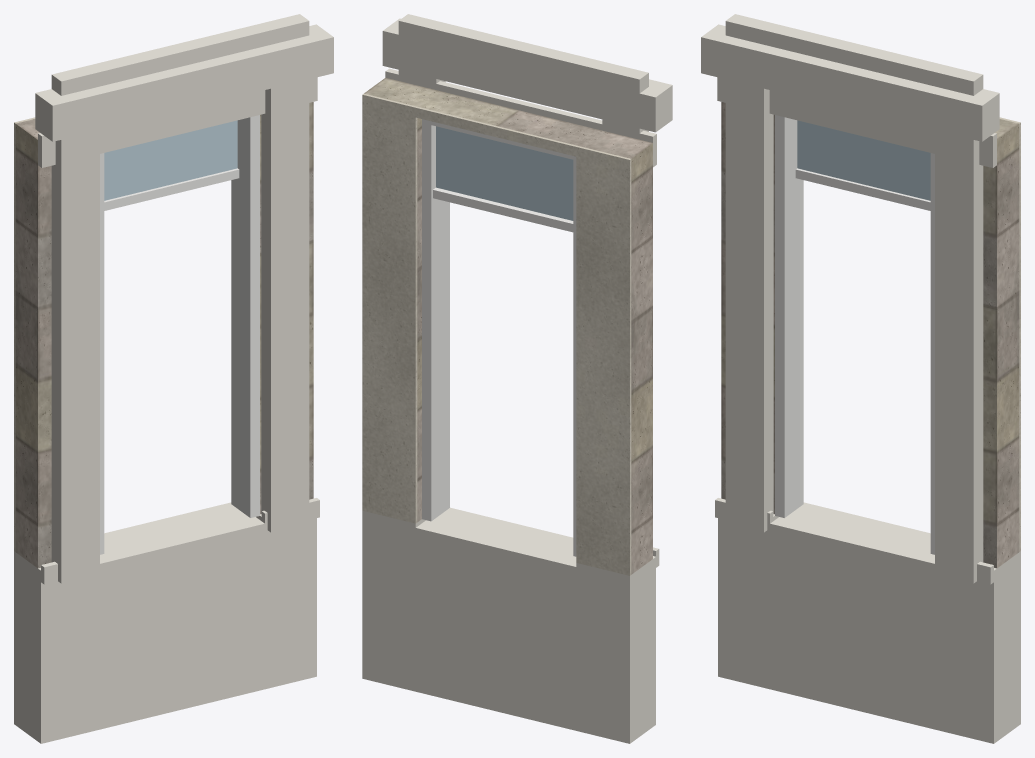
File: wall_b0_entry.glb
The picture shows the model from 3 angles, left to right: view 1: azimuth 30°, elevation 25°; view 2: azimuth 150°, elevation 25°; view 3: azimuth 330°, elevation 25°; orthographic projection. The views are drawn at different scales.
Parts seen in each view (by area): view 1: wall_b0_entry_lime, wall_b0_entry_grey, wall_b0_entry_frame, wall_b0_entry_glass, wall_b0_entry_plaster; view 2: wall_b0_entry_lime, wall_b0_entry_plaster, wall_b0_entry_grey, wall_b0_entry_frame, wall_b0_entry_glass; view 3: wall_b0_entry_lime, wall_b0_entry_grey, wall_b0_entry_frame, wall_b0_entry_glass, wall_b0_entry_plaster.
Boxes of the visible parts, x1=… form: wall_b0_entry_lime: x1=14, y1=14, x2=333, y2=743; wall_b0_entry_grey: x1=15, y1=102, x2=313, y2=568; wall_b0_entry_frame: x1=100, y1=115, x2=259, y2=554; wall_b0_entry_glass: x1=104, y1=120, x2=237, y2=200; wall_b0_entry_plaster: x1=14, y1=117, x2=35, y2=551; wall_b0_entry_lime: x1=362, y1=14, x2=672, y2=743; wall_b0_entry_plaster: x1=362, y1=93, x2=631, y2=575; wall_b0_entry_grey: x1=364, y1=78, x2=652, y2=574; wall_b0_entry_frame: x1=422, y1=119, x2=576, y2=556; wall_b0_entry_glass: x1=436, y1=126, x2=573, y2=220; wall_b0_entry_lime: x1=701, y1=14, x2=1020, y2=743; wall_b0_entry_grey: x1=721, y1=102, x2=1019, y2=568; wall_b0_entry_frame: x1=775, y1=115, x2=934, y2=554; wall_b0_entry_glass: x1=797, y1=120, x2=930, y2=200; wall_b0_entry_plaster: x1=999, y1=117, x2=1020, y2=551.
Bounding box in the file's own units: 2.04 × 4.6 × 0.52.
Materials: 5 (2 with a texture image).
